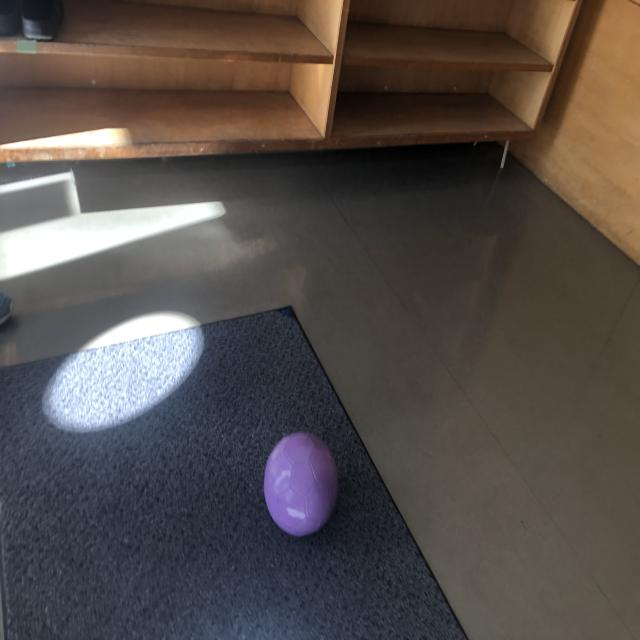purple_ball: (263, 432, 339, 538)
